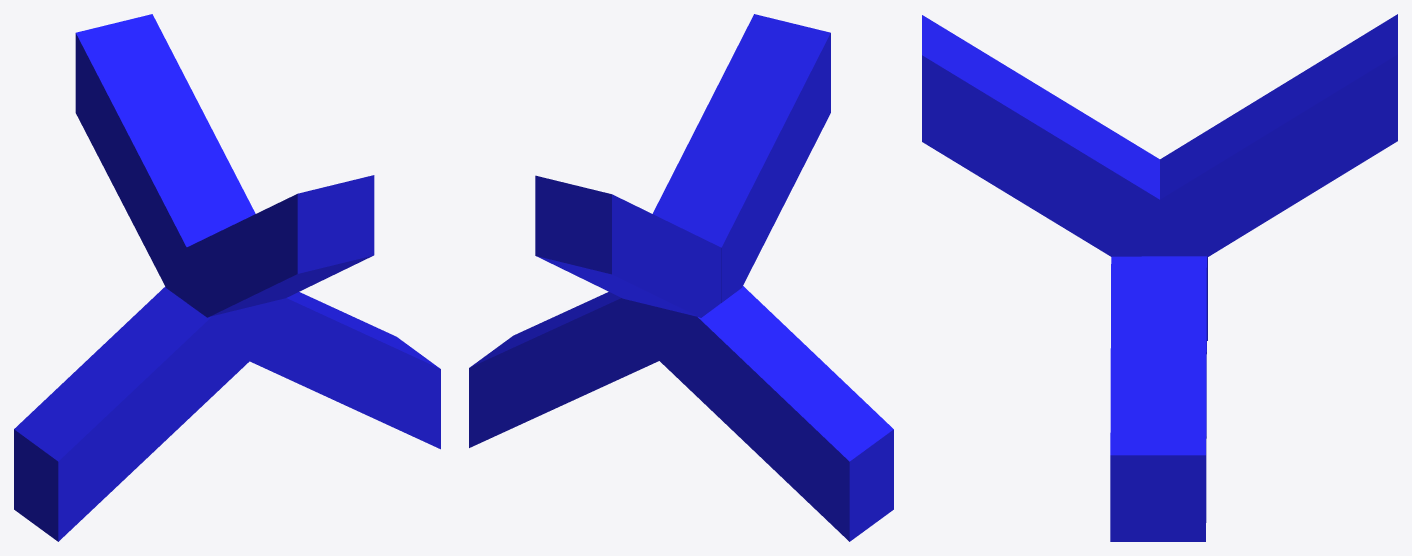
File: hamburger.glb
3 renders of one model, left to right at view 1: azimuth 30°, elevation 25°; view 2: azimuth 150°, elevation 25°; view 3: azimuth 270°, elevation 25°, orthographic. The views are drawn at different scales.
Visible parts, largest first — view 1: Cube.001; view 2: Cube.001; view 3: Cube.001.
Part boxes in pixels (x1,y1,x2,y2): Cube.001: (14, 14, 440, 541); Cube.001: (469, 14, 893, 541); Cube.001: (922, 14, 1397, 541).
Bounding box in the file's own units: 9.95 × 9.36 × 9.95.
